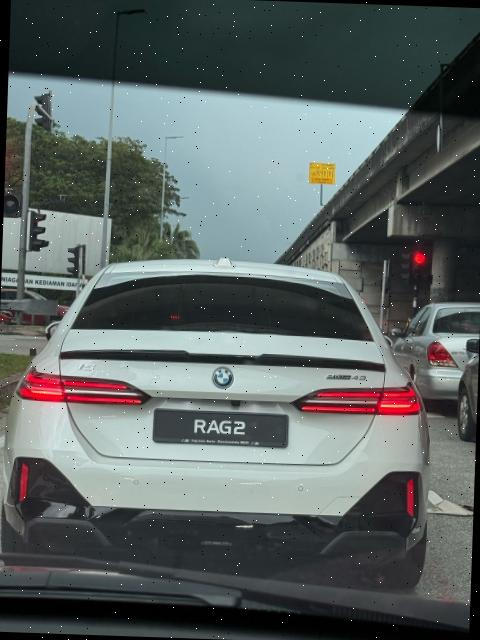License_Plate: (152, 408, 291, 449)
car: (1, 251, 439, 592)
